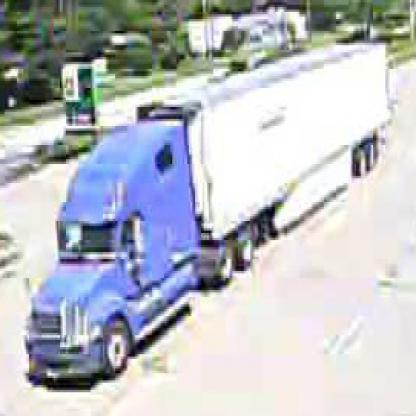container: (20, 46, 396, 386)
